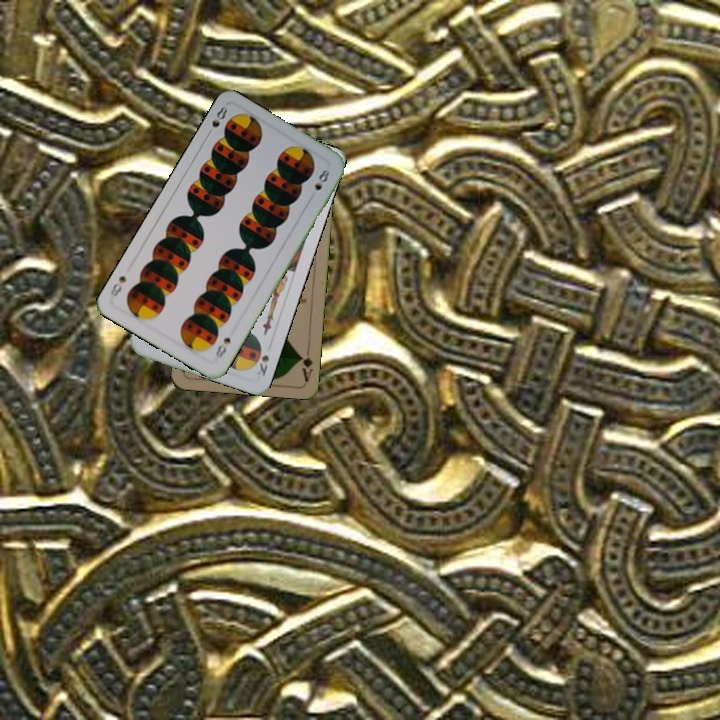GA: (296, 342, 315, 383)
S8: (202, 102, 230, 139), (211, 333, 233, 361)
SK: (252, 351, 272, 379)
